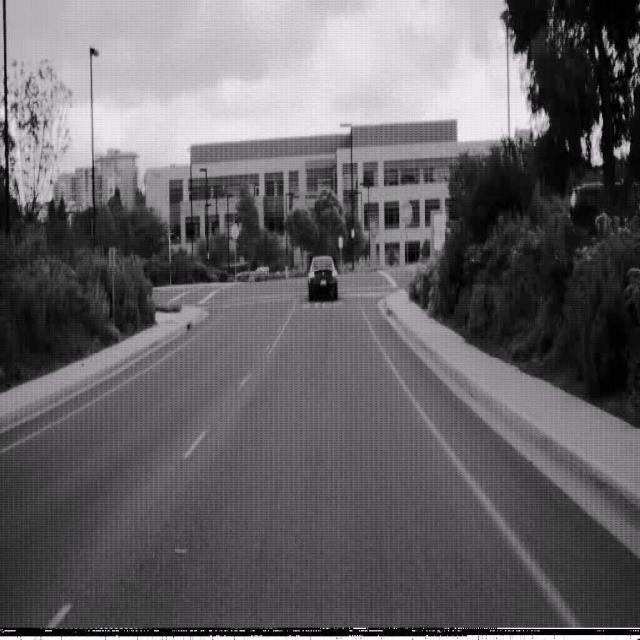stop: (400, 200, 412, 225)
